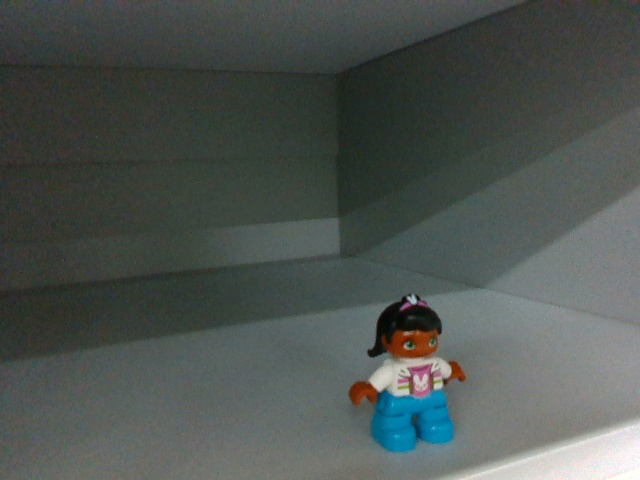people: (344, 286, 473, 456)
